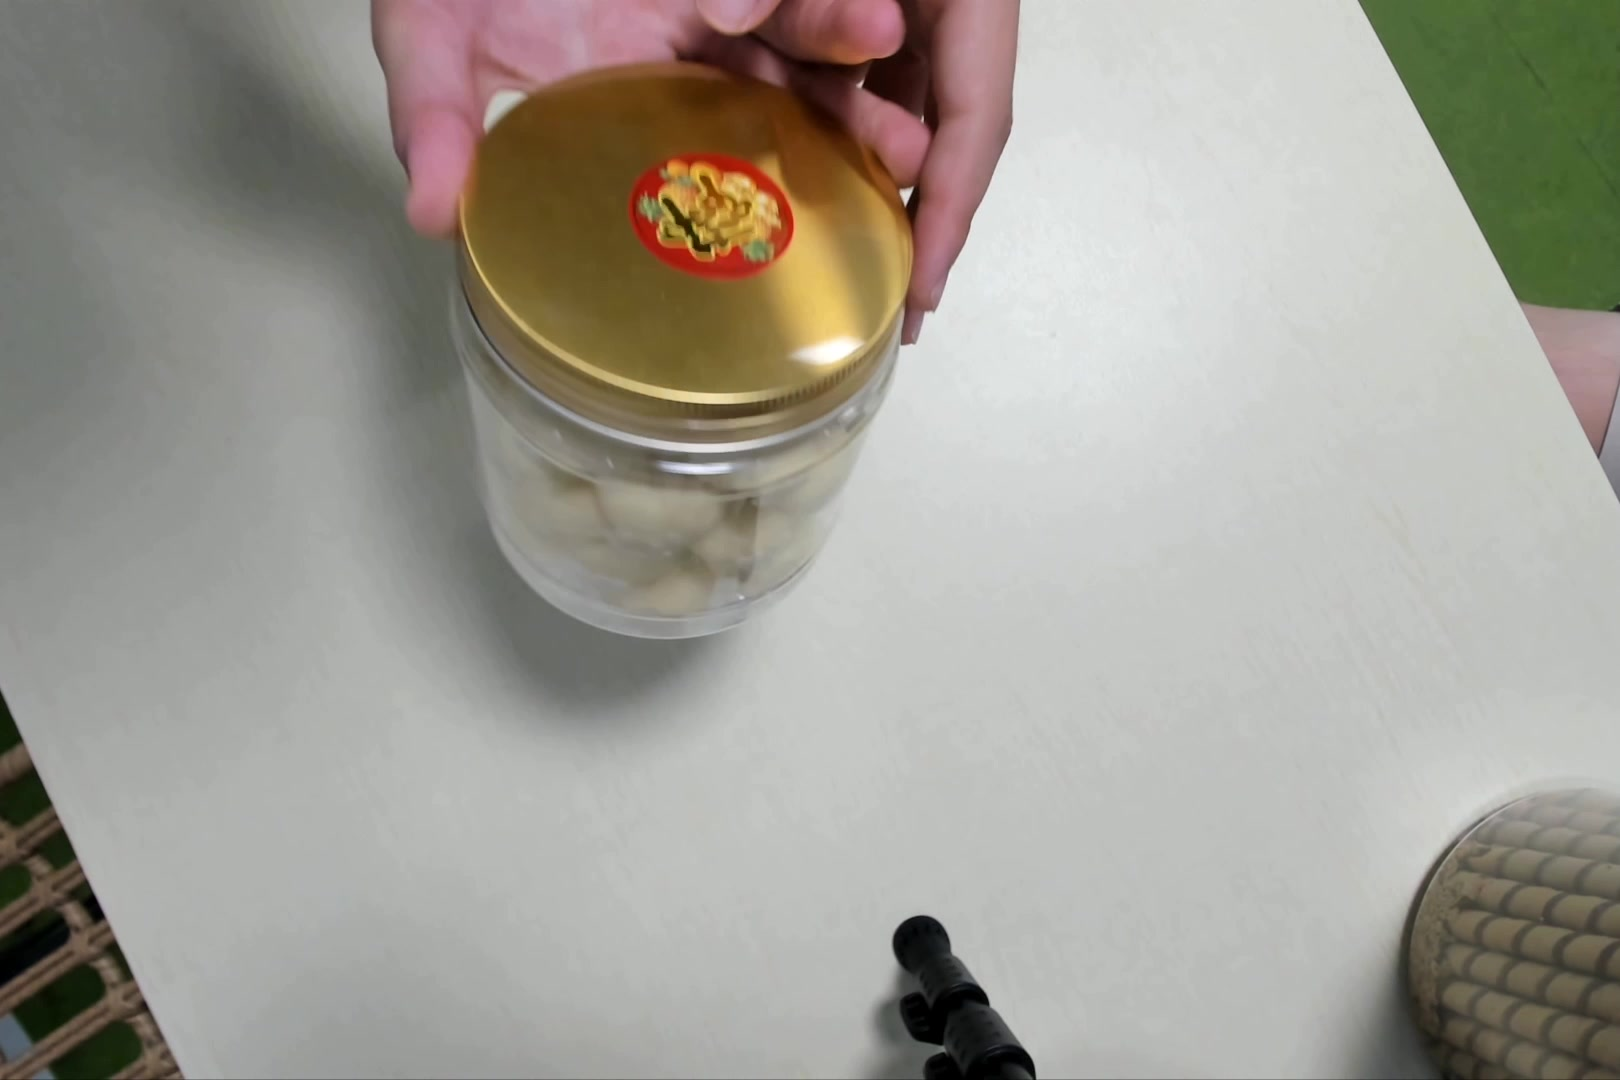BiscuitsCrackersCookies_200-299g_Halal_NonHealthy: (440, 59, 912, 641)
